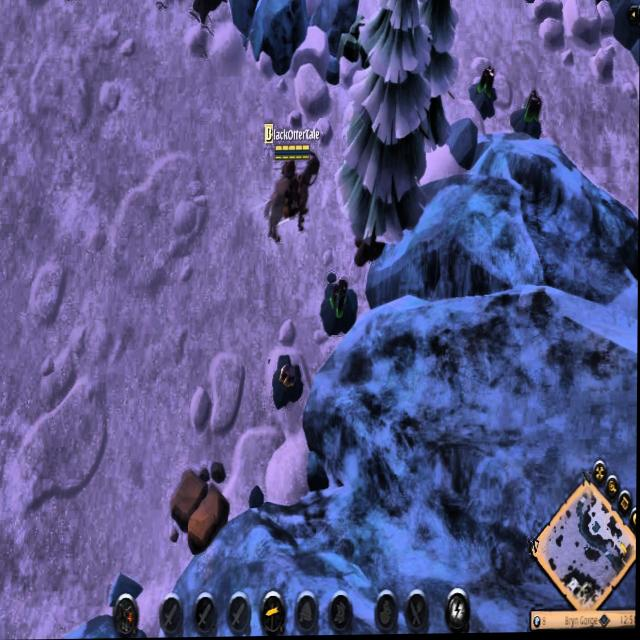copperore: (270, 350, 305, 408)
limestone: (169, 466, 231, 556)
tinore: (319, 276, 360, 332), (513, 91, 543, 139), (470, 65, 498, 115)
